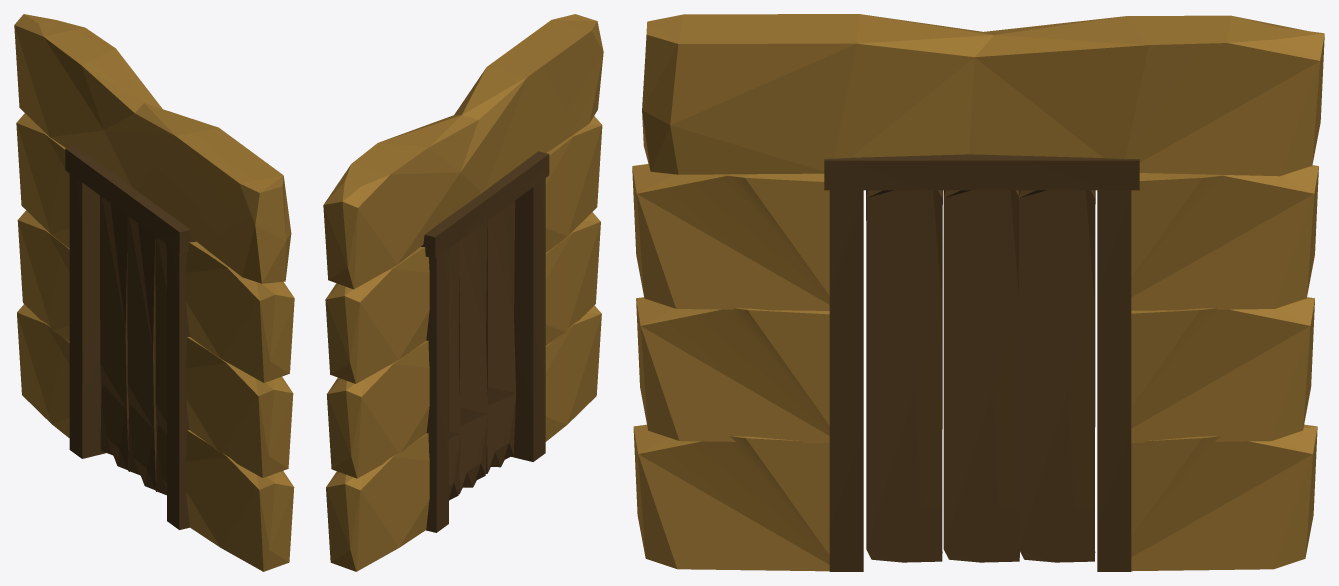
File: WallDoor.fbx
3 renders of one model, left to right at view 1: azimuth 30°, elevation 25°; view 2: azimuth 150°, elevation 25°; view 3: azimuth 270°, elevation 25°, orthographic. The views are drawn at different scales.
Parts seen in each view (by area): view 1: WallDoor, Door; view 2: WallDoor, Door; view 3: WallDoor, Door.
Boxes of the visible parts, x1=… form: WallDoor: x1=14, y1=14, x2=294, y2=571; Door: x1=100, y1=196, x2=166, y2=495; WallDoor: x1=323, y1=14, x2=603, y2=571; Door: x1=449, y1=200, x2=516, y2=500; WallDoor: x1=632, y1=14, x2=1324, y2=571; Door: x1=866, y1=190, x2=1095, y2=562.
Bounding box in the file's own units: 58.73 × 388 × 460.
